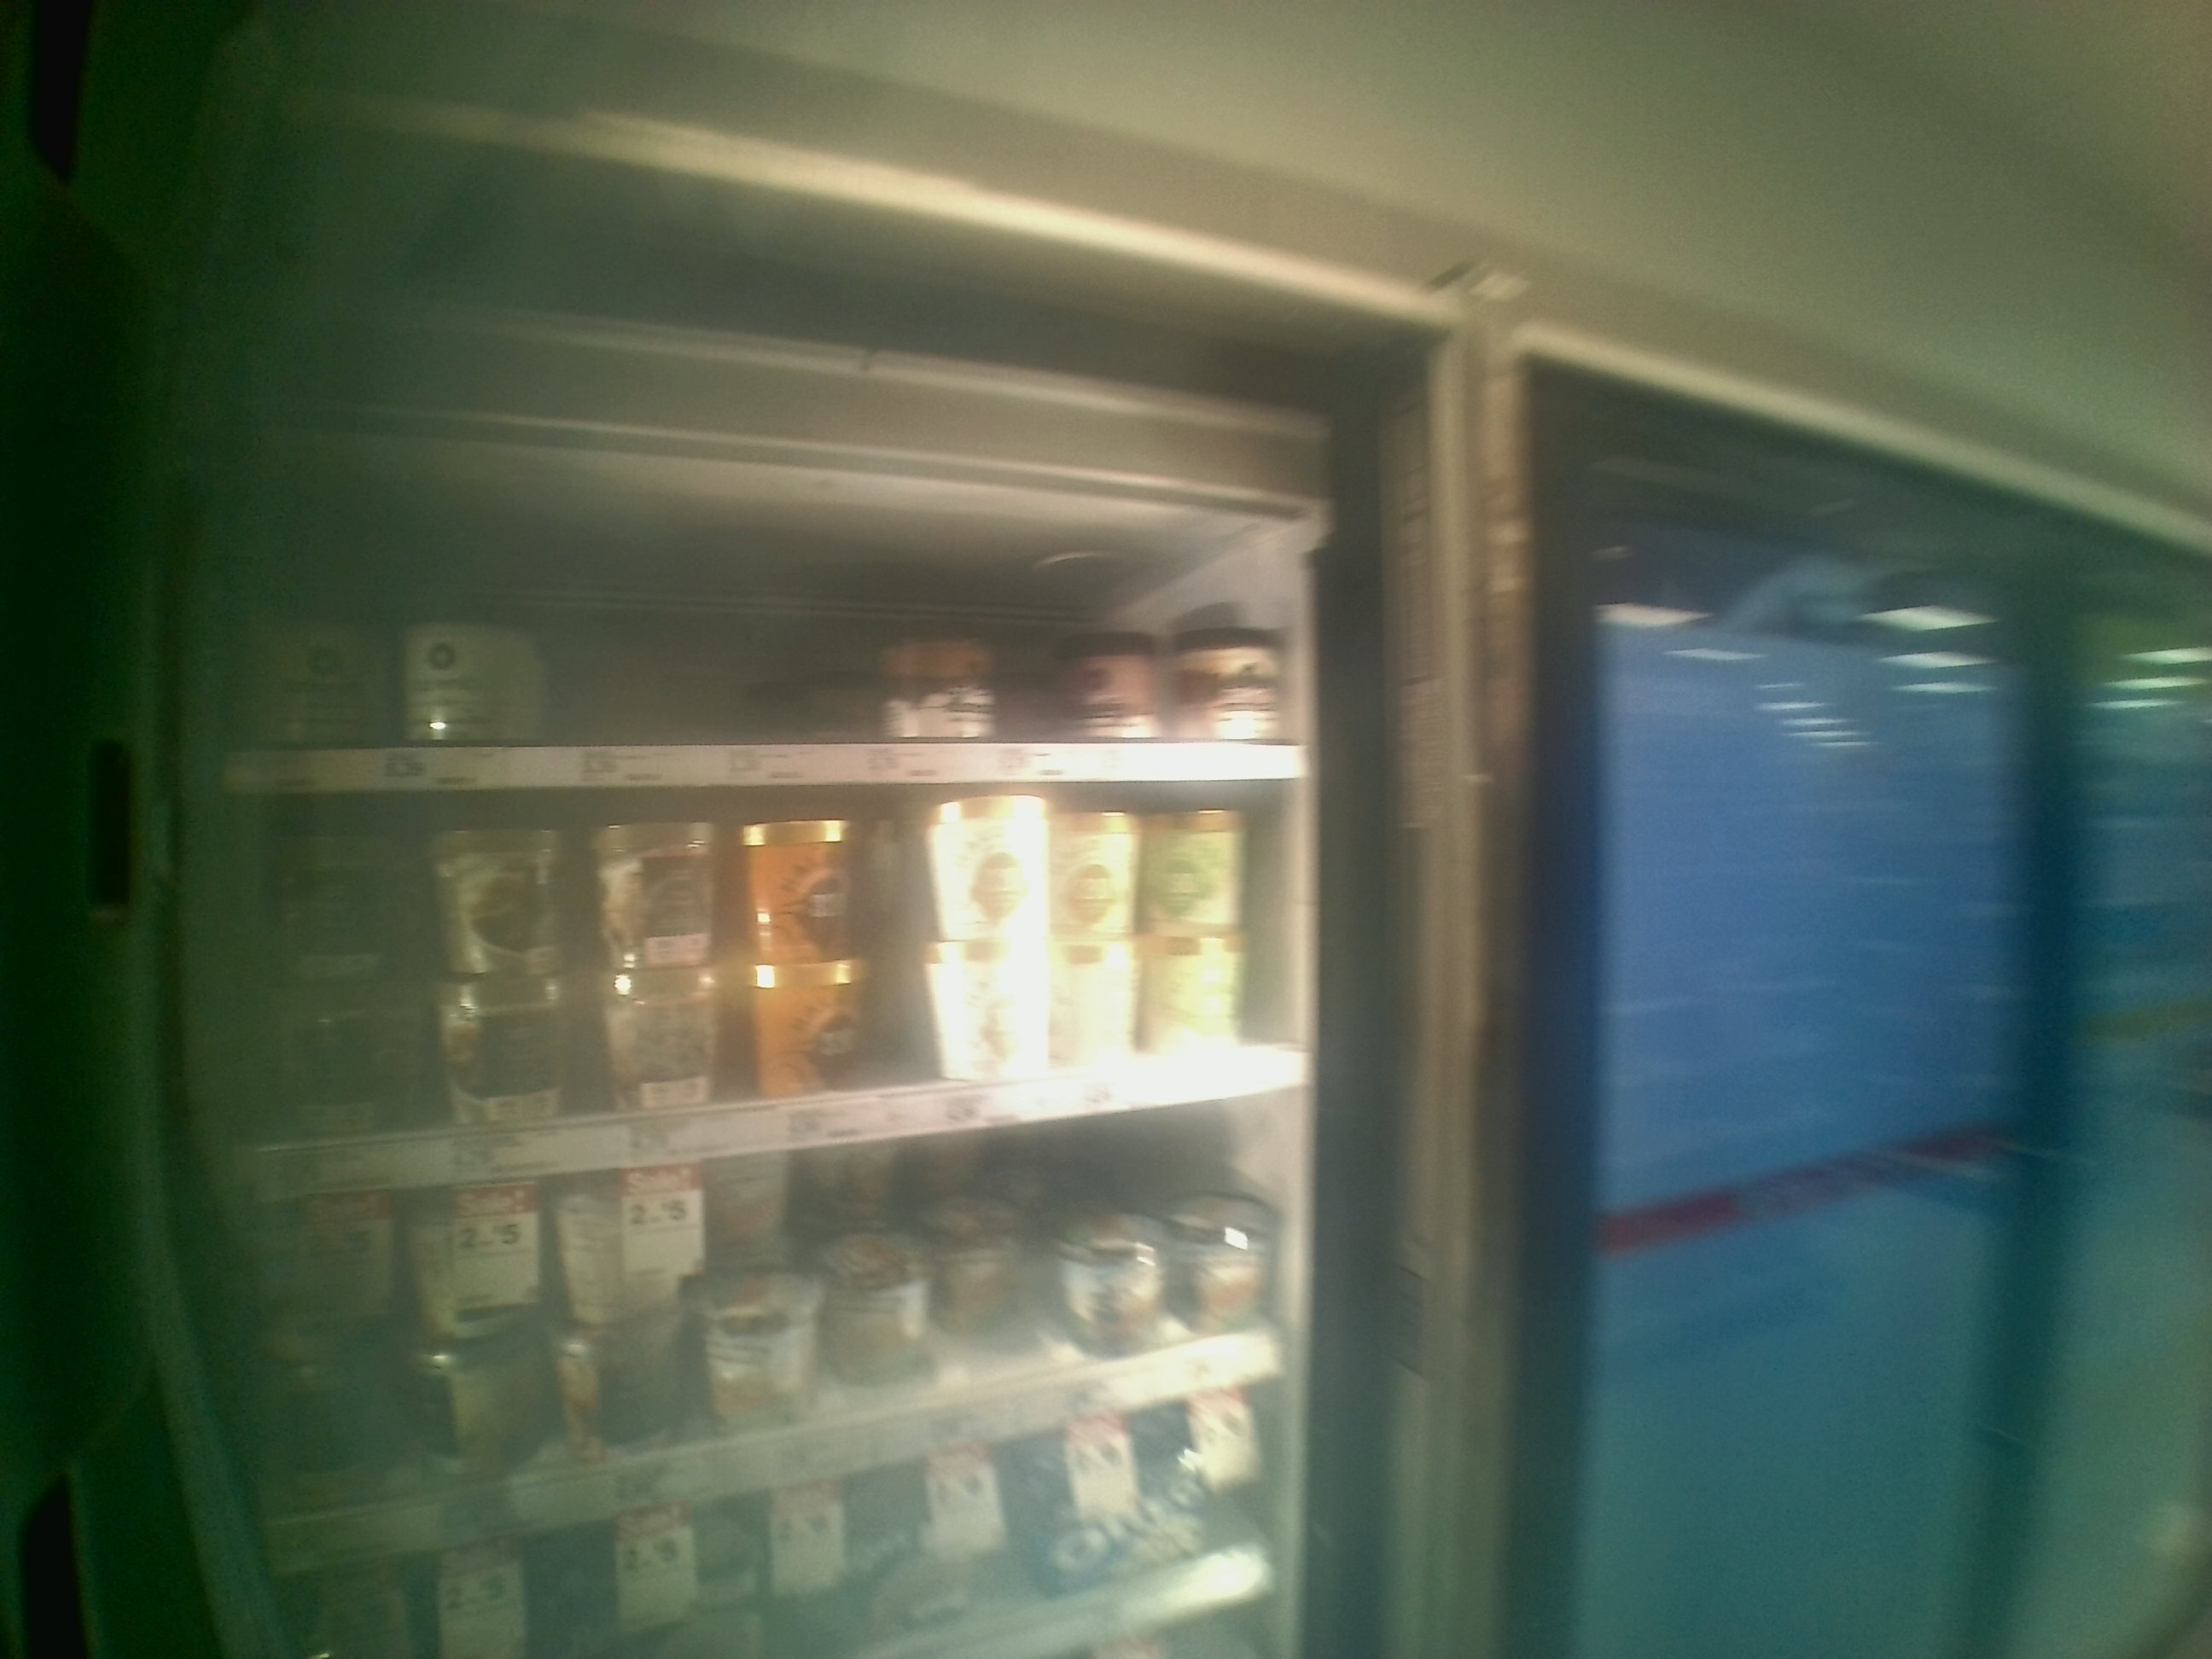shelf: (193, 784, 1322, 1185), (195, 420, 1313, 782)
